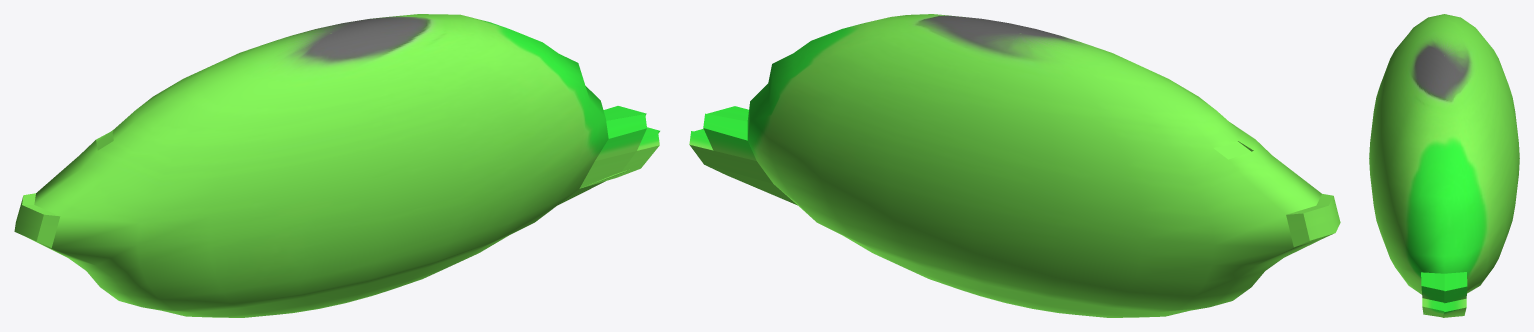
Rendered from Grønn Maske.fbx.
3 views of the same model, side by side, from view 1: azimuth 30°, elevation 25°; view 2: azimuth 150°, elevation 25°; view 3: azimuth 270°, elevation 25° (orthographic). The views are drawn at different scales.
Visible parts, largest first — view 1: pSphere1; view 2: pSphere1; view 3: pSphere1.
Part boxes in pixels (<box>): pSphere1: <box>14,14,659,317</box>; pSphere1: <box>689,14,1340,317</box>; pSphere1: <box>1369,14,1519,317</box>.
Size of the model in its own units: 12.59 by 4.94 by 3.36.
